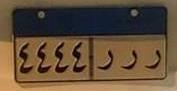4: (70, 41, 89, 74), (34, 41, 52, 75), (53, 40, 70, 75), (17, 40, 34, 75)
raa: (143, 47, 164, 72), (120, 48, 139, 73), (96, 49, 114, 72)
